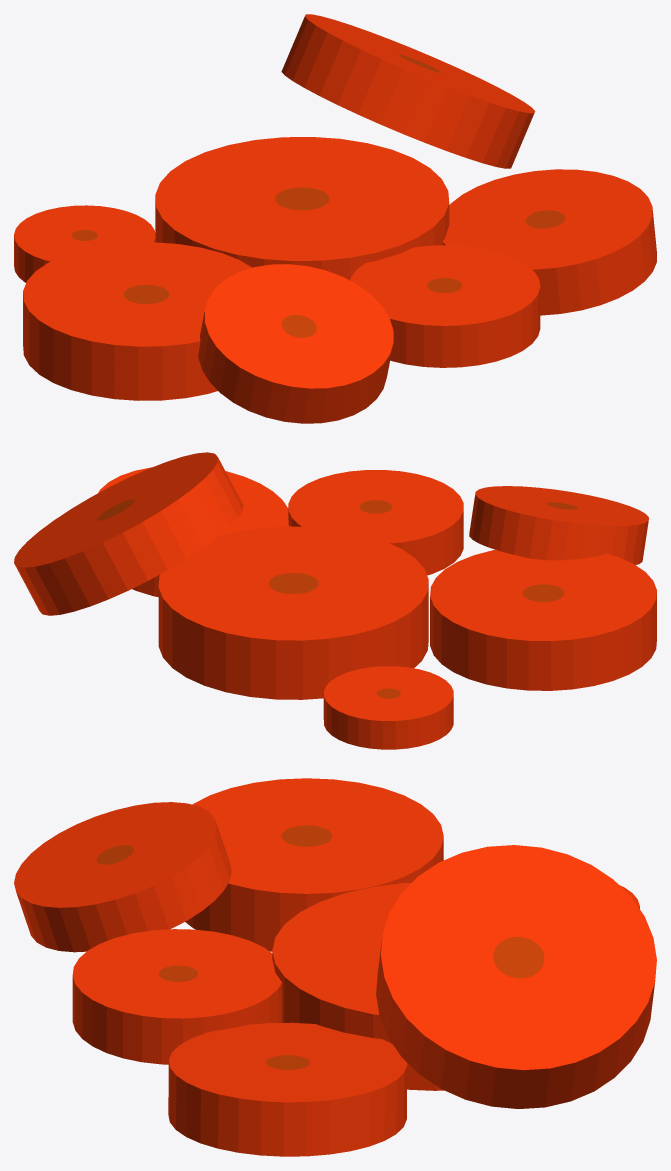
Rendered from CarrotCut.fbx.
3 renders of one model, top to bottom at view 1: azimuth 30°, elevation 25°; view 2: azimuth 150°, elevation 25°; view 3: azimuth 270°, elevation 25°, orthographic. The views are drawn at different scales.
Visible parts, largest first — view 1: Carrot_Cut; view 2: Carrot_Cut; view 3: Carrot_Cut.
Boxes of the visible parts, box(x1,y1,x2,y2) form: Carrot_Cut: box(14, 14, 656, 423); Carrot_Cut: box(14, 452, 656, 749); Carrot_Cut: box(14, 778, 656, 1156).
Bounding box in the file's own units: 0.2688 × 0.0849 × 0.2274.
